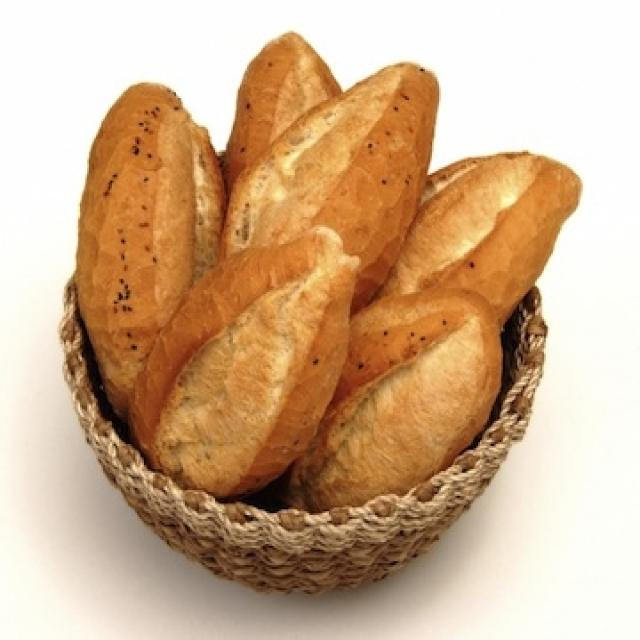面包点心: (53, 23, 585, 567)
